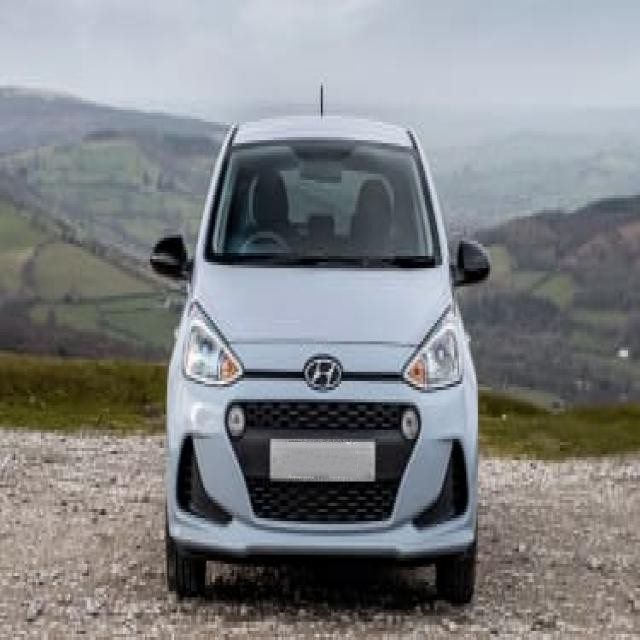car: (153, 95, 487, 606)
